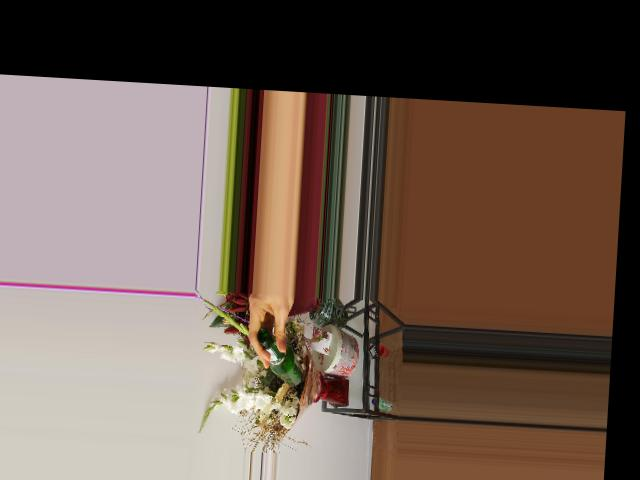beer: (254, 327, 305, 386)
